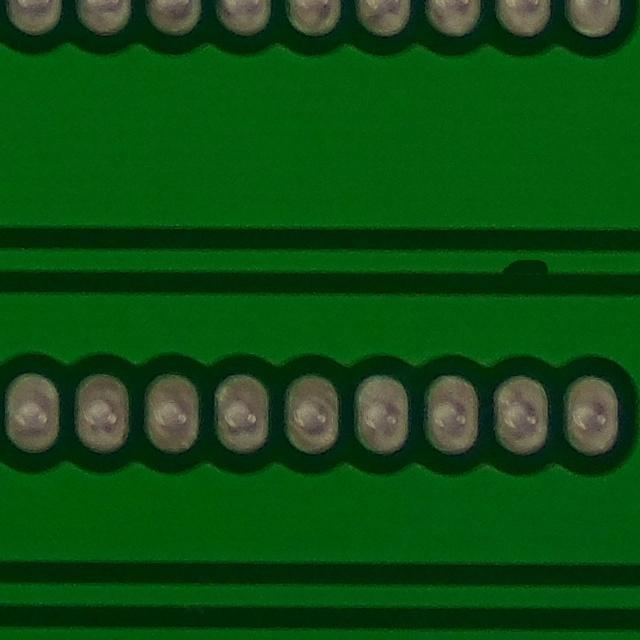mouse_bite: (481, 242, 564, 294)
